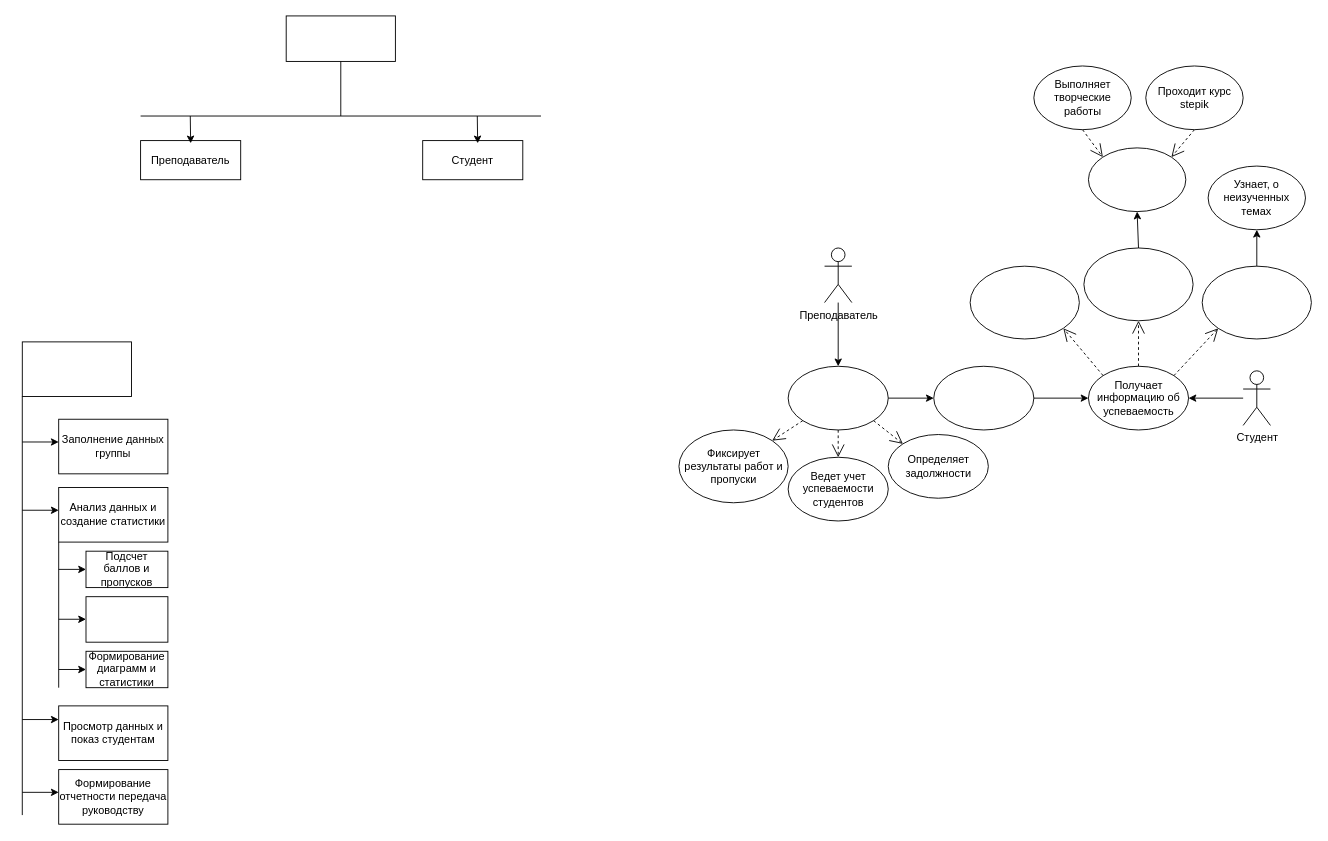
This 1328x841 diagram has some shape labels left out. The centre of each missing label's shape, as x and y in pixels:
"Анализирует успеваемость" belongs at point (837, 397).
"Директор" belongs at point (340, 38).
"Исправляет задолжности" belongs at point (1137, 179).
"Предоставляет информацию об успеваемость" belongs at point (983, 397).
"Процесс работы" belongs at point (76, 368).
"Узнает количество набранных баллов" belongs at point (1024, 302).
"Узнает количество пропусков" belongs at point (1256, 302).
"Узнает о задолжностях" belongs at point (1138, 284).
"Формирование таблицы задолженностей по работам" belongs at point (126, 619).
